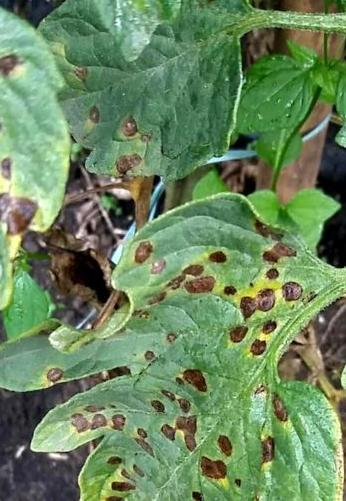Tomato Early blight leaf: (0, 201, 311, 501), (38, 0, 270, 186)
